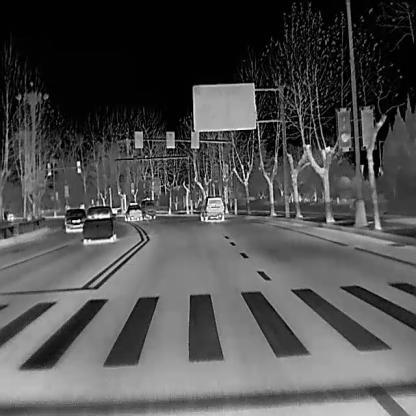car: (81, 205, 117, 244), (62, 207, 86, 232), (200, 195, 224, 220), (123, 201, 142, 220), (140, 197, 156, 219), (3, 209, 14, 219)
